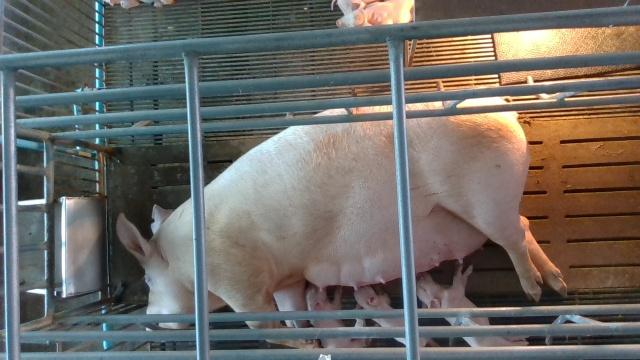piglet: (417, 265, 531, 347), (354, 285, 426, 347), (306, 287, 365, 347), (337, 0, 414, 27)
sow-sleep-lactate: (115, 97, 567, 330)
